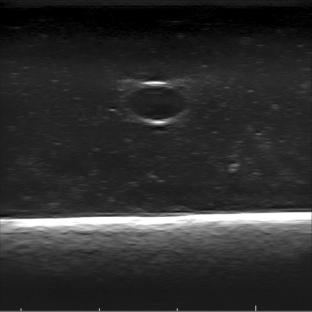vessel: (122, 80, 189, 125)
